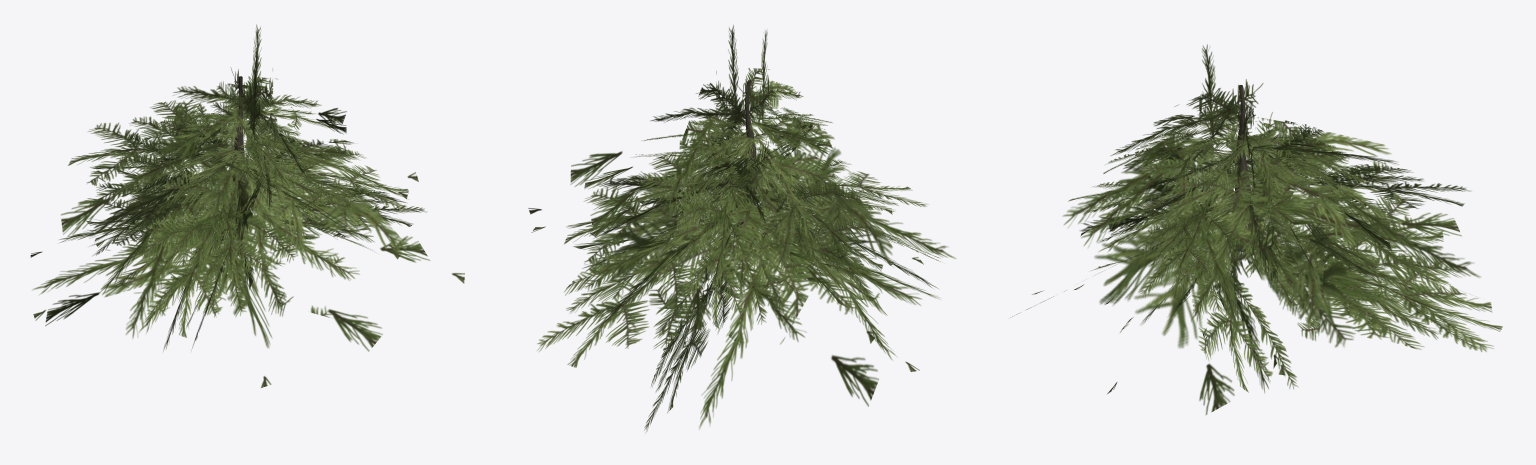
Rendered from prop_sapling_fir_b.glb.
The picture shows the model from 3 angles, left to right: view 1: azimuth 30°, elevation 25°; view 2: azimuth 150°, elevation 25°; view 3: azimuth 270°, elevation 25°; orthographic projection. The views are drawn at different scales.
Visible parts, largest first — view 1: conifer_fir_132; view 2: conifer_fir_132; view 3: conifer_fir_132.
Boxes of the visible parts, box(x1,y1,x2,y2) form: conifer_fir_132: box(30, 24, 464, 387); conifer_fir_132: box(528, 25, 956, 432); conifer_fir_132: box(1010, 44, 1502, 414).
Size of the model in its own units: 4.56 by 3.69 by 4.75.
2 materials, 2 textured.
